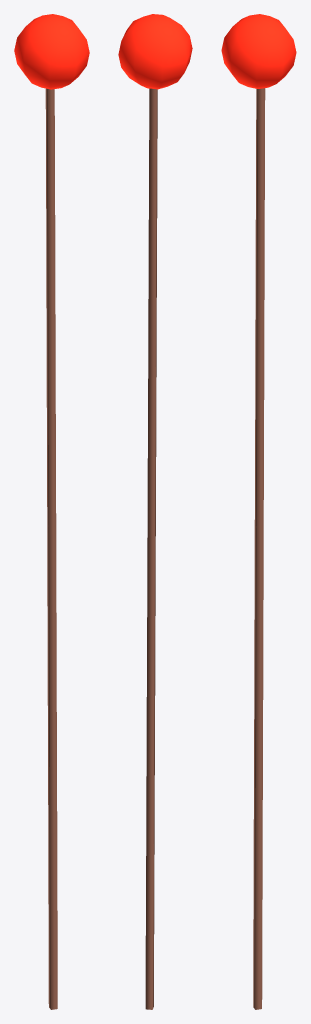
File: SpinMushR_l.fbx
The picture shows the model from 3 angles, left to right: view 1: azimuth 90°, elevation 25°; view 2: azimuth 150°, elevation 25°; view 3: azimuth 270°, elevation 25°; orthographic projection.
Parts seen in each view (by area): view 1: BezierCurve.004; view 2: BezierCurve.004; view 3: BezierCurve.004.
Part boxes in pixels (box(x1,y1,x2,y2)): BezierCurve.004: box(14, 14, 89, 1009); BezierCurve.004: box(118, 14, 192, 1009); BezierCurve.004: box(221, 14, 296, 1009).
Size of the model in its own units: 37.73 by 37.73 by 548.
